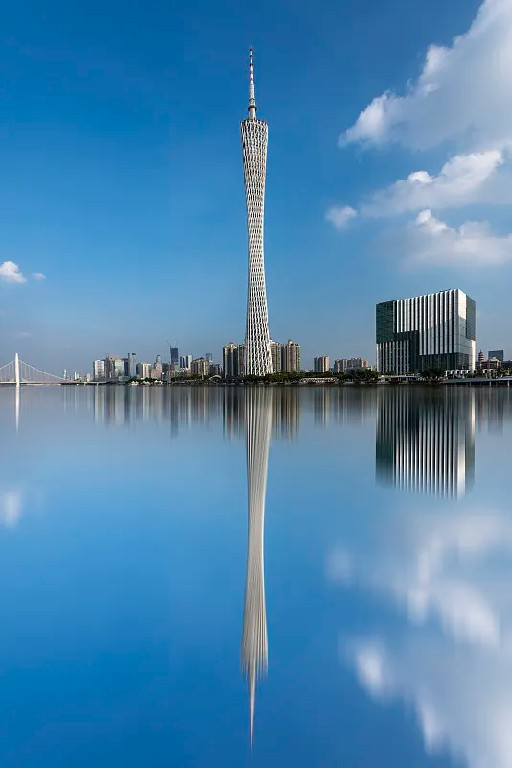Canton: (238, 46, 278, 379)
